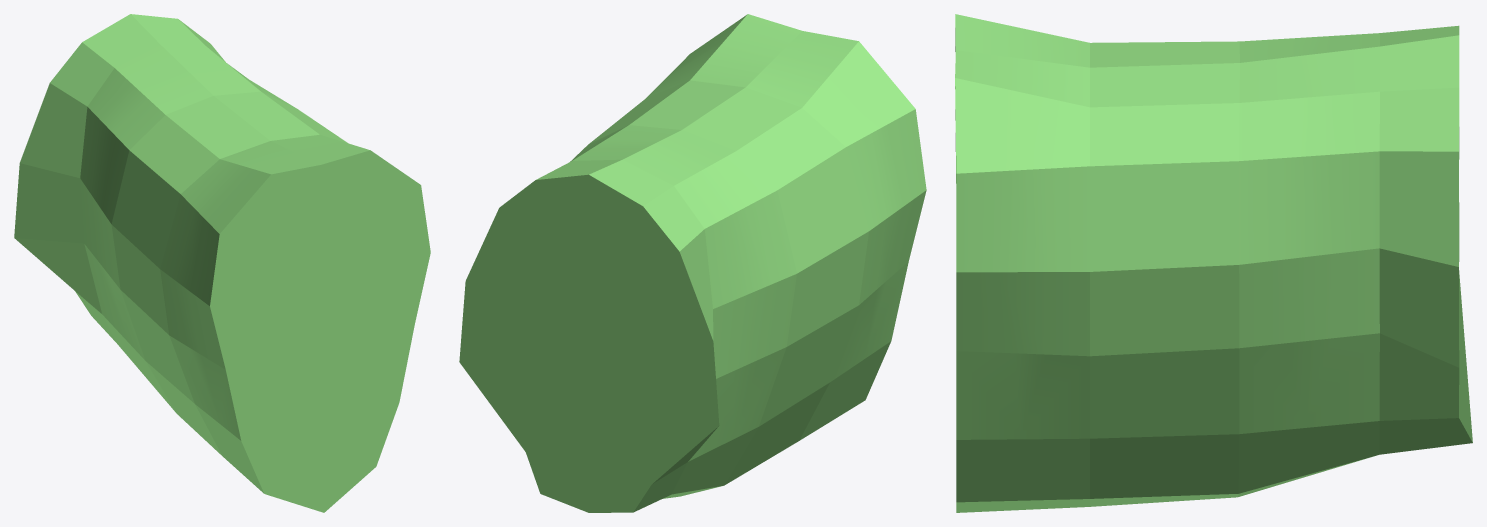
File: TWB02.fbx
3 views of the same model, side by side, from view 1: azimuth 30°, elevation 25°; view 2: azimuth 150°, elevation 25°; view 3: azimuth 270°, elevation 25° (orthographic). The views are drawn at different scales.
Visible parts, largest first — view 1: polySurface12; view 2: polySurface12; view 3: polySurface12.
Boxes of the visible parts, x1,y1,x2,y2 form: polySurface12: (14, 14, 430, 512); polySurface12: (459, 14, 926, 512); polySurface12: (955, 14, 1472, 512).
Size of the model in its own units: 3.69 by 5.48 by 5.41.
